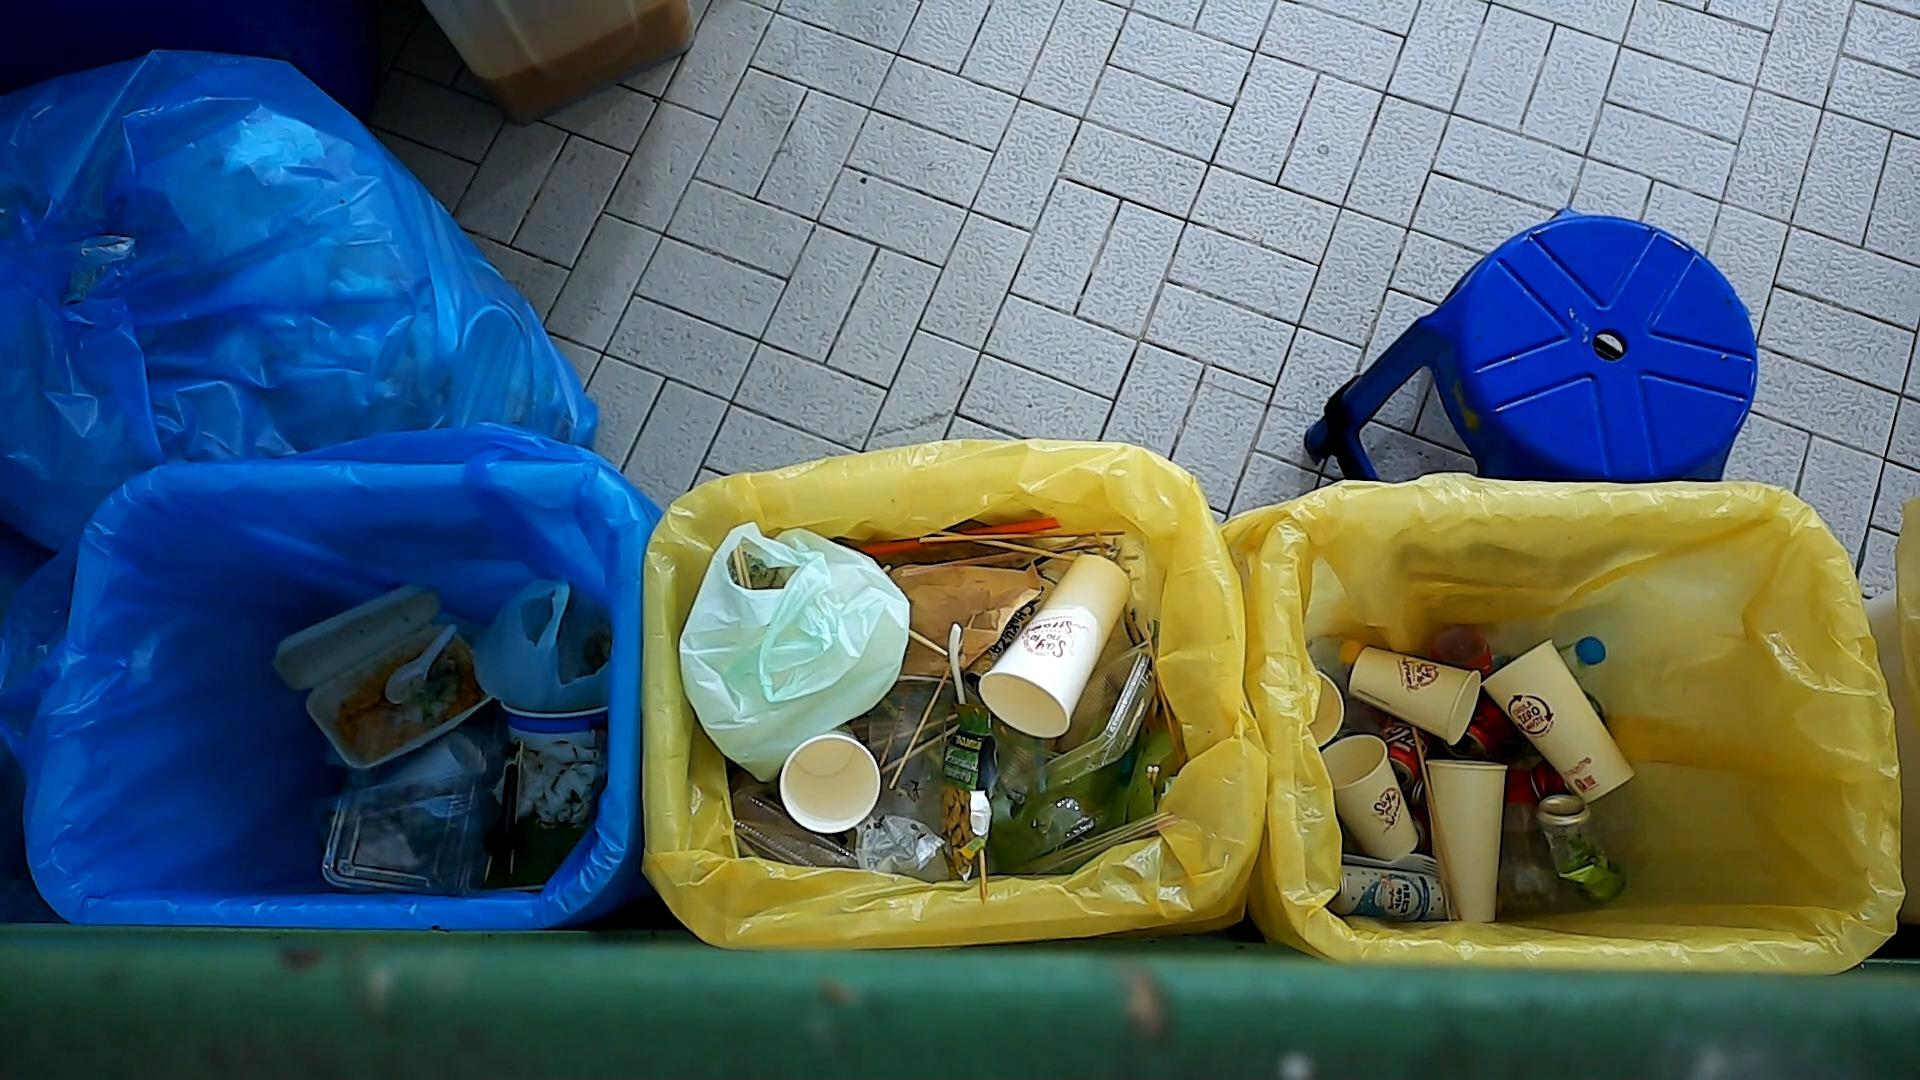can: (1532, 791, 1630, 909), (1325, 864, 1449, 923)
dirty food container: (318, 711, 601, 895), (268, 572, 492, 777), (303, 762, 481, 901)
filled plastic bag: (676, 513, 914, 783), (467, 570, 616, 713)
food container: (993, 638, 1159, 806), (497, 698, 611, 758)
paper bag: (890, 547, 1043, 676)
plastic bag: (844, 803, 960, 878)
plastic cup: (847, 669, 957, 831)
plastic cutlery: (381, 621, 463, 709), (480, 761, 526, 864), (1336, 849, 1441, 881)
snack packaging: (936, 700, 1002, 886)
sticks: (885, 613, 978, 790), (1407, 724, 1465, 924), (1141, 620, 1185, 767), (926, 525, 1075, 567), (915, 525, 1131, 547)
straw: (898, 551, 1039, 587)
zero waste cup: (975, 553, 1133, 742), (1477, 634, 1639, 810), (1345, 642, 1484, 748), (1423, 757, 1510, 924), (1319, 732, 1422, 861), (777, 721, 885, 836)
